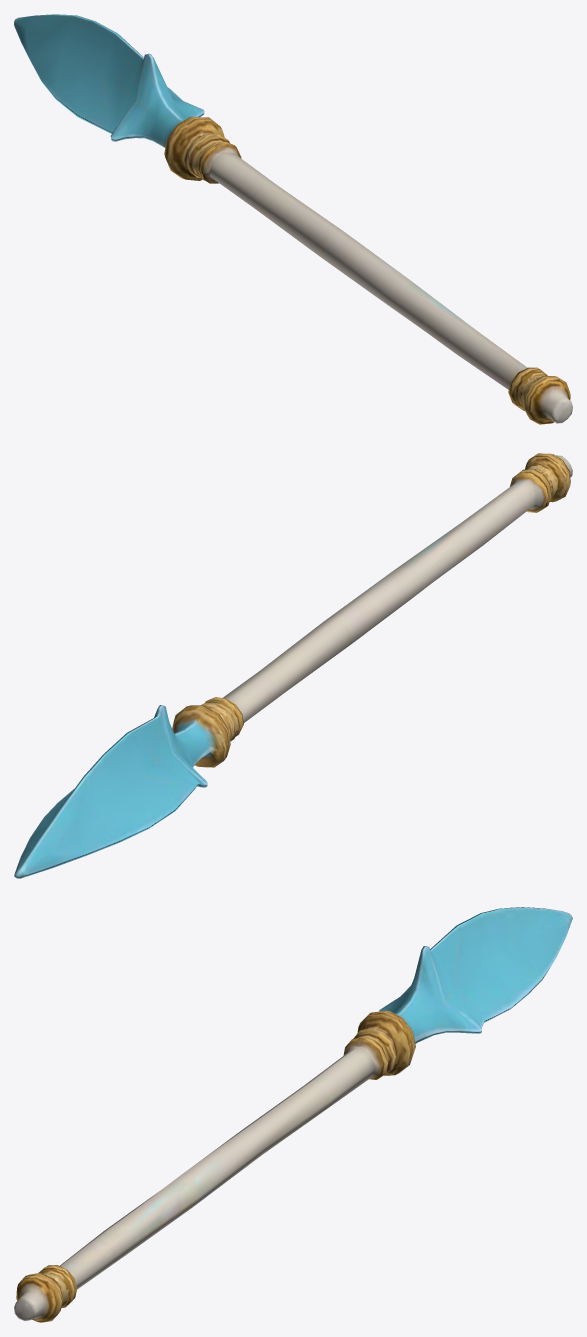
Rendered from f_spear.fbx.
The picture shows the model from 3 angles, top to bottom: view 1: azimuth 30°, elevation 25°; view 2: azimuth 150°, elevation 25°; view 3: azimuth 330°, elevation 25°; orthographic projection.
Parts seen in each view (by area): view 1: tripo_node_b0310710-27f2-4aa1-8338-a6877289dc78; view 2: tripo_node_b0310710-27f2-4aa1-8338-a6877289dc78; view 3: tripo_node_b0310710-27f2-4aa1-8338-a6877289dc78.
Boxes of the visible parts, bbox=[...] form: tripo_node_b0310710-27f2-4aa1-8338-a6877289dc78: bbox=[14, 14, 572, 424]; tripo_node_b0310710-27f2-4aa1-8338-a6877289dc78: bbox=[14, 453, 572, 878]; tripo_node_b0310710-27f2-4aa1-8338-a6877289dc78: bbox=[14, 907, 572, 1322].
Bounding box in the file's own units: 0.2371 × 0.2156 × 2.27.
Materials: 1 (1 with a texture image).
